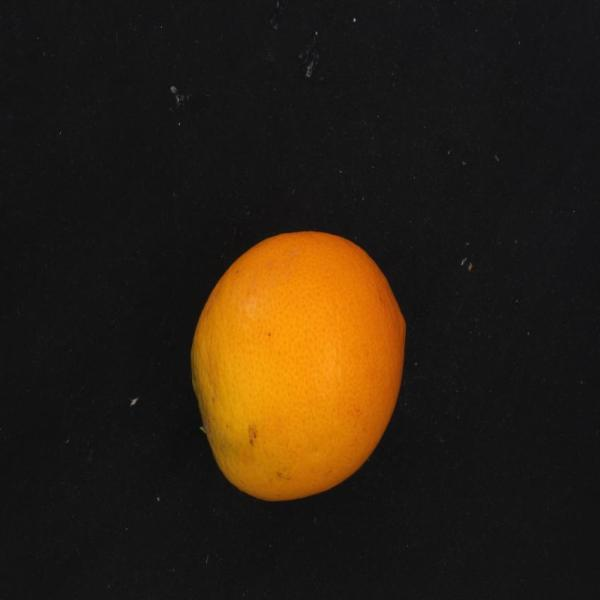Sana: (182, 213, 428, 512)
